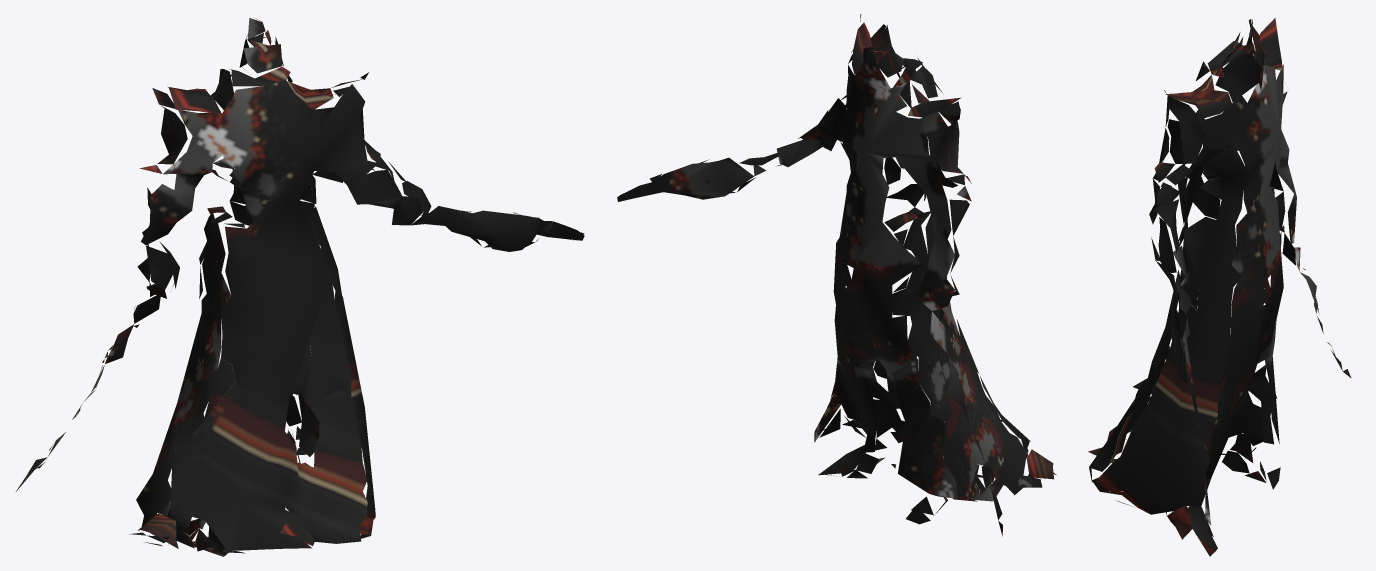
3 renders of one model, left to right at view 1: azimuth 30°, elevation 25°; view 2: azimuth 150°, elevation 25°; view 3: azimuth 270°, elevation 25°, orthographic. The views are drawn at different scales.
Visible parts, largest first — view 1: body.002; view 2: body.002; view 3: body.002.
Boxes of the visible parts, <box> form: body.002: <box>15,17,584,556</box>; body.002: <box>617,14,1056,536</box>; body.002: <box>1088,18,1351,556</box>.
Size of the model in its own units: 1.98 by 1.99 by 0.9986.
1 material, 1 textured.
